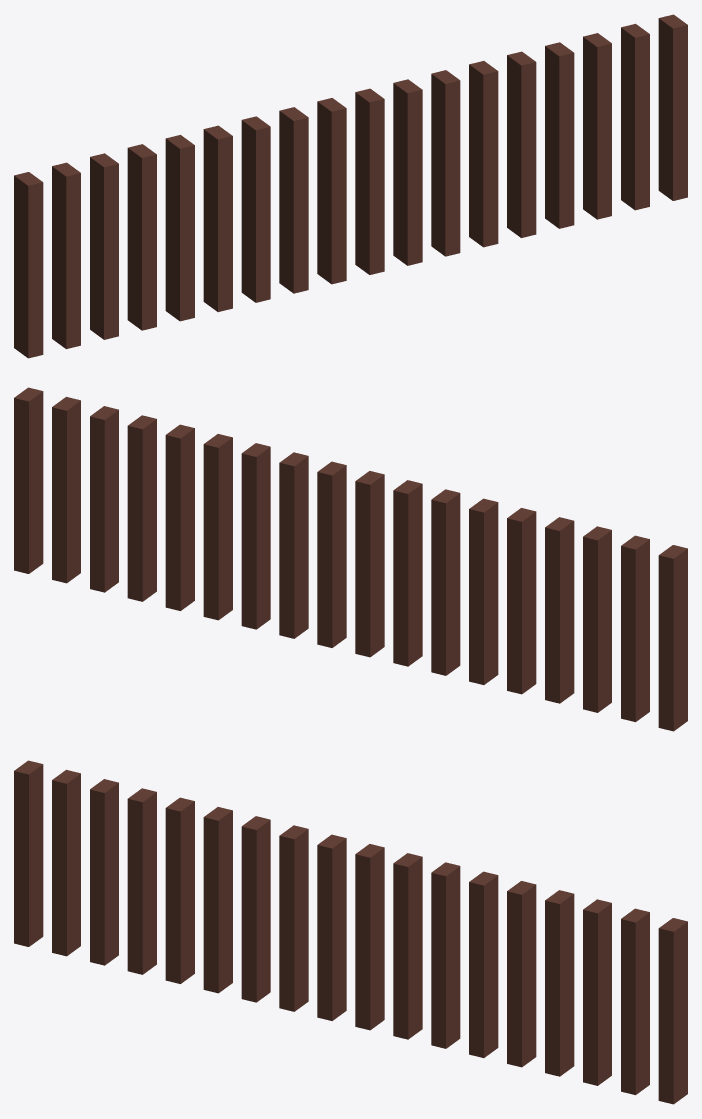
File: Partitions_004.glb
3 views of the same model, one above another, from view 1: azimuth 30°, elevation 25°; view 2: azimuth 150°, elevation 25°; view 3: azimuth 330°, elevation 25° (orthographic).
Parts seen in each view (by area): view 1: Partitions_004; view 2: Partitions_004; view 3: Partitions_004.
Part boxes in pixels (x1,y1,x2,y2): Partitions_004: [14, 14, 687, 358]; Partitions_004: [14, 387, 687, 731]; Partitions_004: [14, 760, 687, 1104].
Bounding box in the file's own units: 4 × 1 × 0.15.
Materials: 1 (1 with a texture image).
